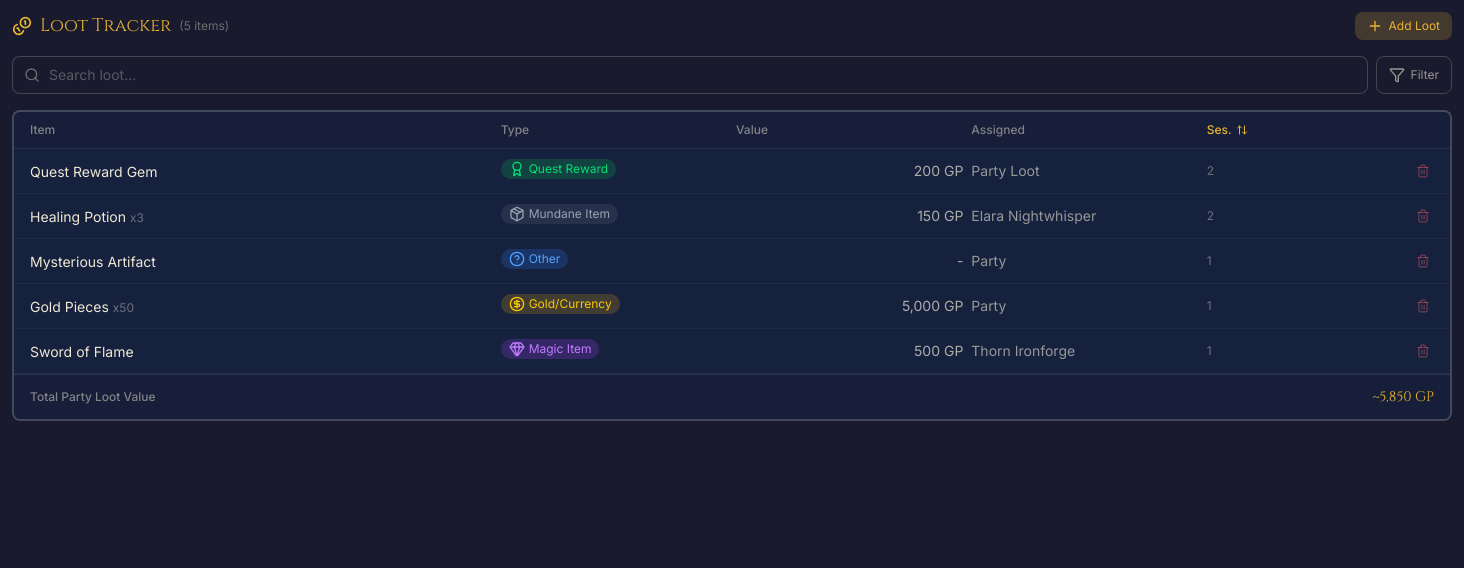
Test case: LootTracker › should filter by assigned character
This screenshot has width=1464, height=568.
Step 1. Click the button with aria-label "Toggle filters" → point(1414, 75), box [1376,56,1452,94]
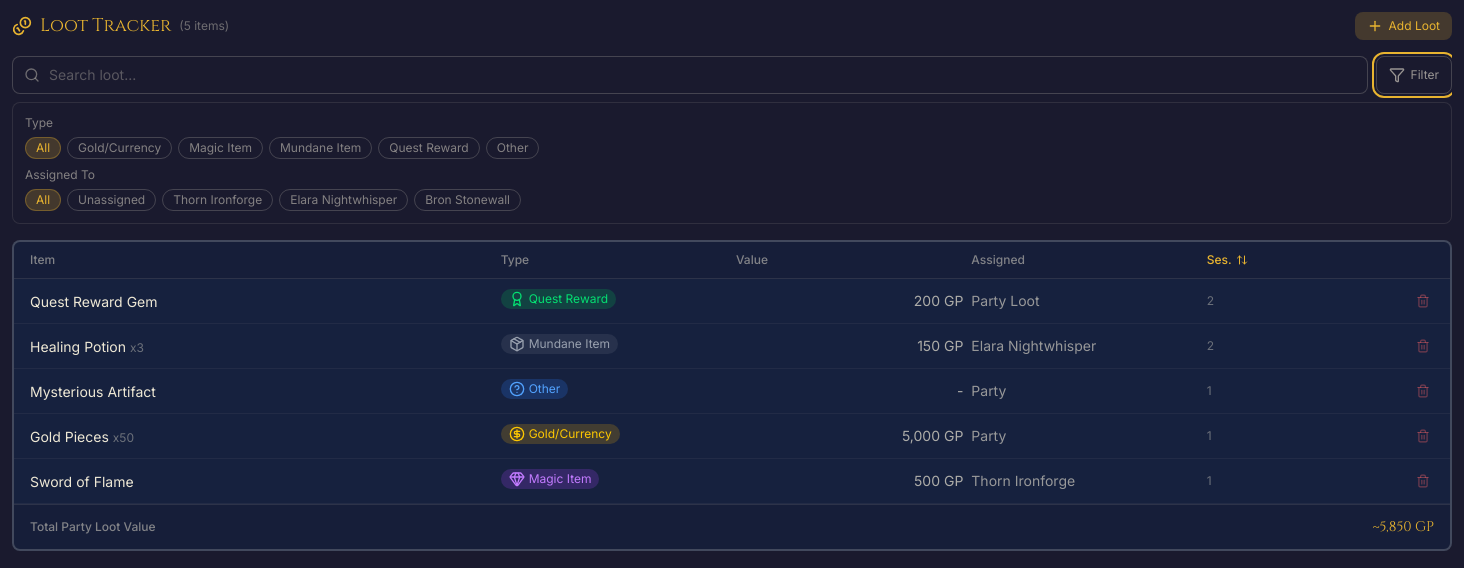
Step 2. Click the button "Thorn Ironforge" → point(218, 200), box [162,189,273,211]
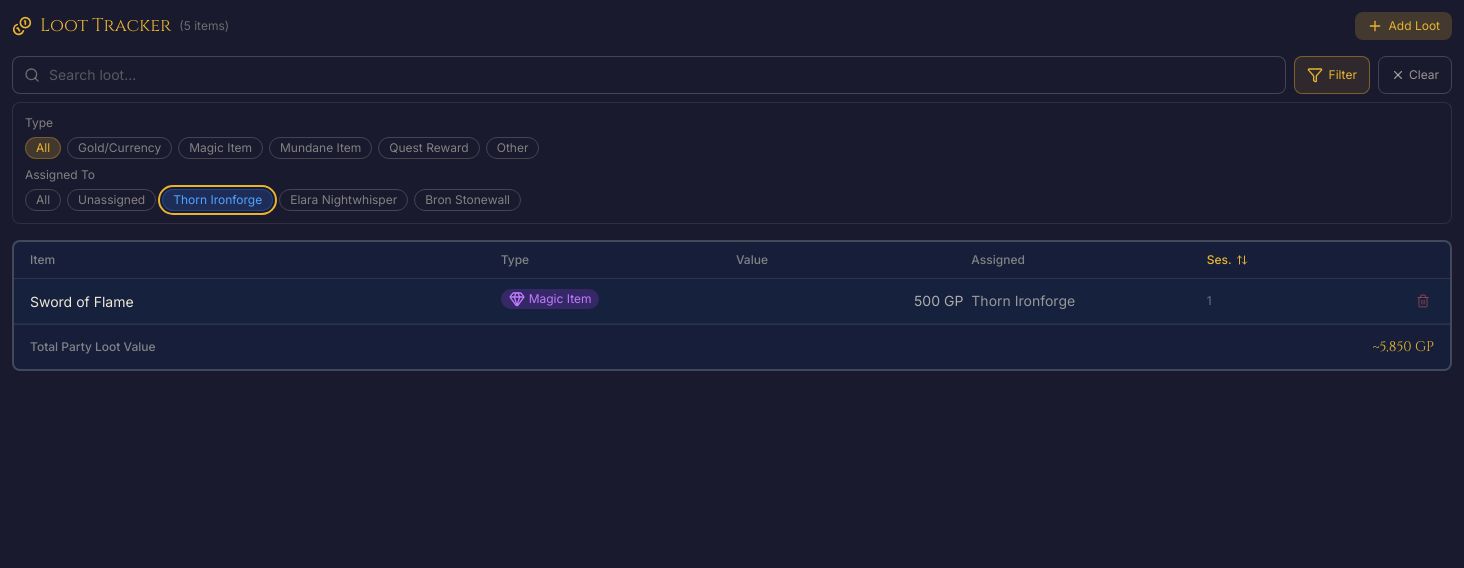
Expected: the text "Sword of Flame" is shown, [30,293,134,310]
Expected: the text "Healing Potion" is gone
